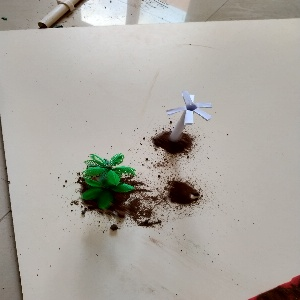plant: (77, 153, 145, 218)
weed: (162, 88, 212, 147)
